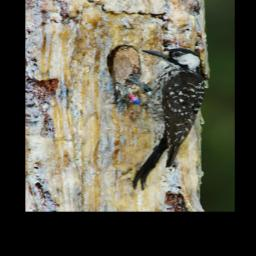Woodpecker: (116, 48, 208, 190)
